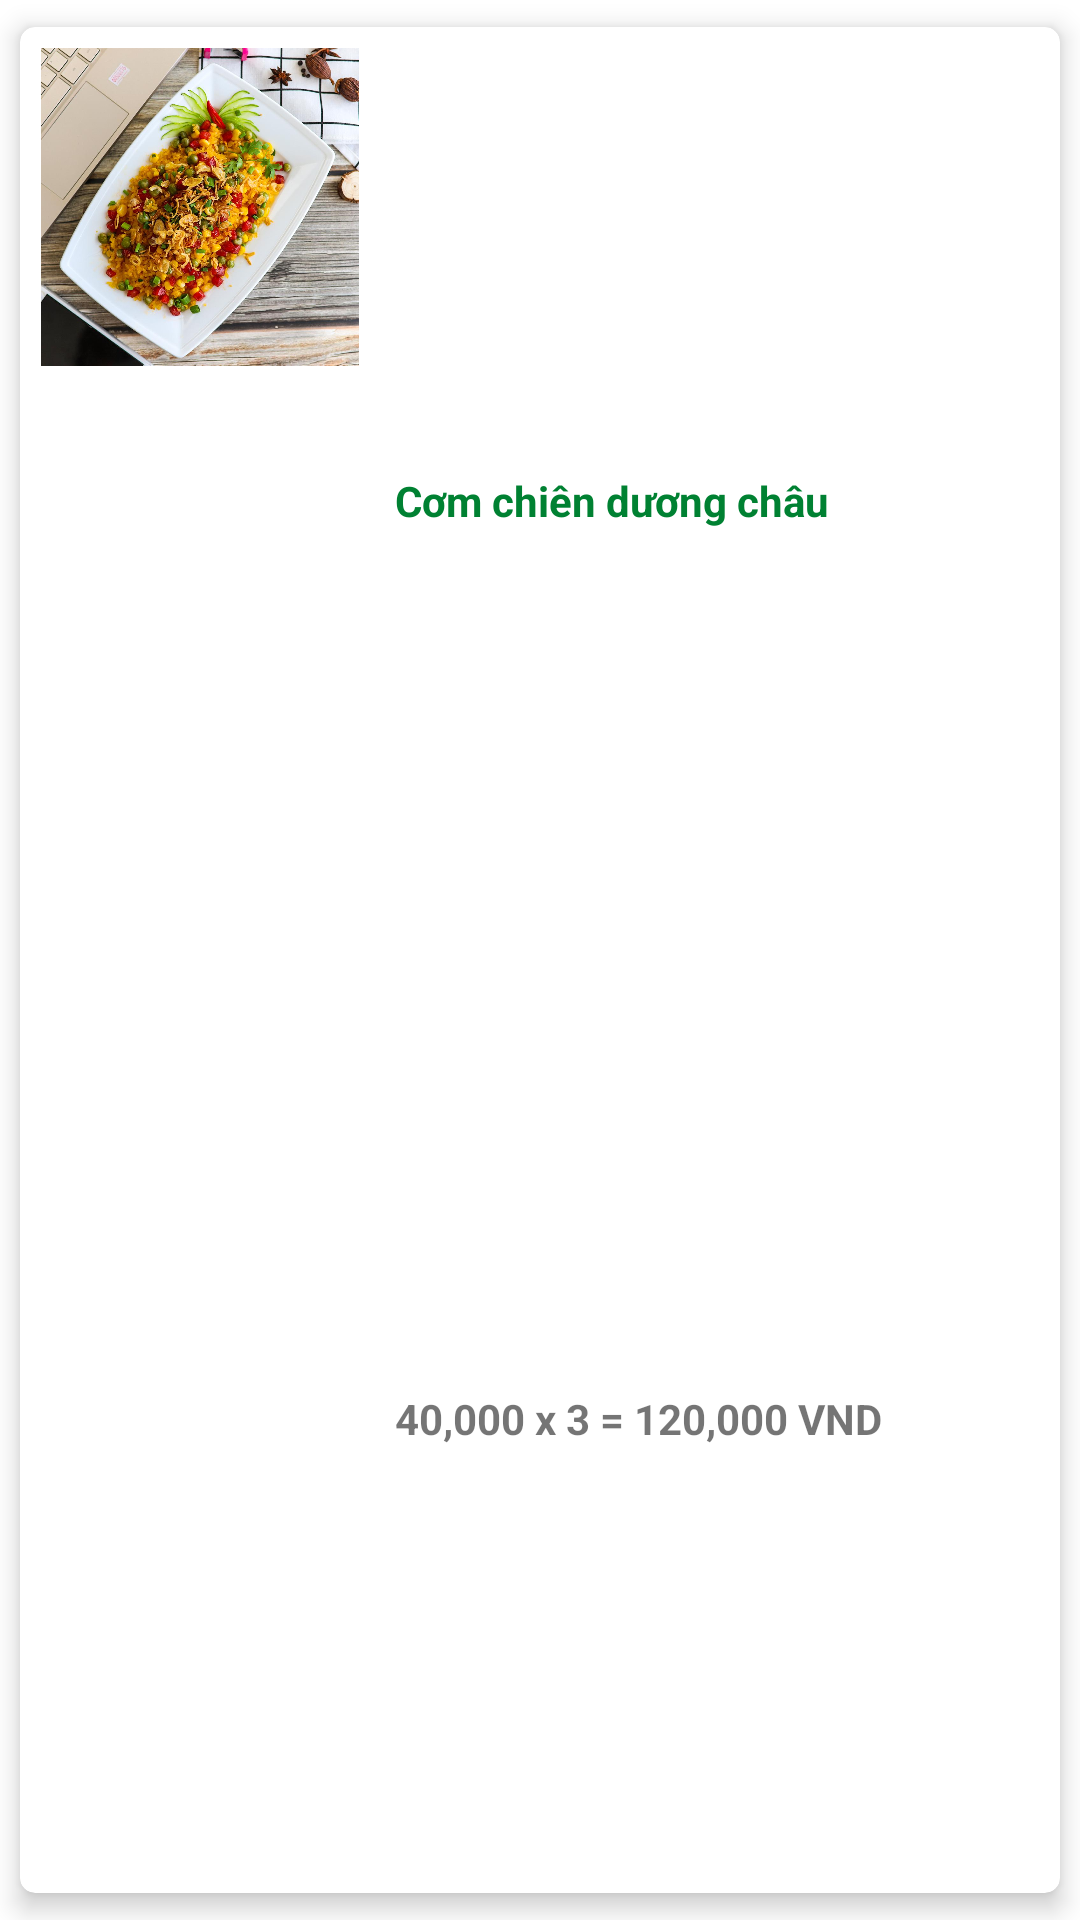

Icons on this 1080×1920 Android screen, each with its box as (x1, y1, x2, y2):
product: (41, 48, 359, 366)
